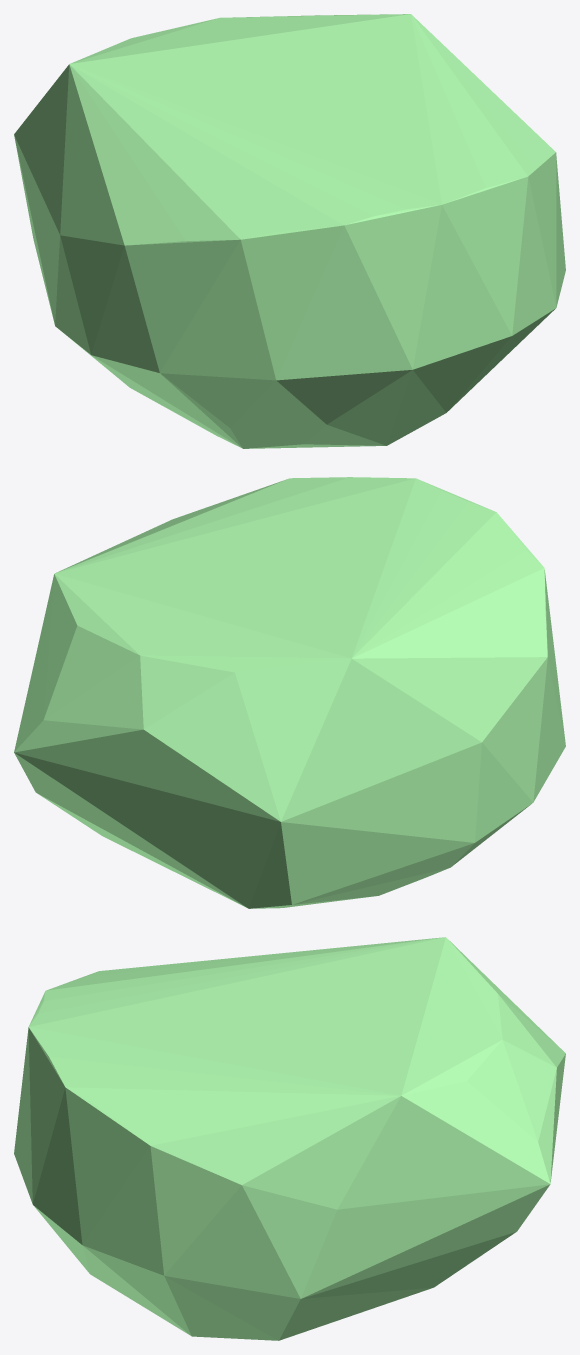
The model's file is dualpanda_Panda_rightArm_link5_respondable_coll_3.dae.
3 renders of one model, top to bottom at view 1: azimuth 30°, elevation 25°; view 2: azimuth 150°, elevation 25°; view 3: azimuth 270°, elevation 25°, orthographic. The views are drawn at different scales.
Visible parts, largest first — view 1: node; view 2: node; view 3: node.
Boxes of the visible parts, <box> form: node: <box>14,14,565,448</box>; node: <box>14,477,565,908</box>; node: <box>14,937,565,1340</box>.
Bounding box in the file's own units: 0.1013 × 0.0687 × 0.1134.
